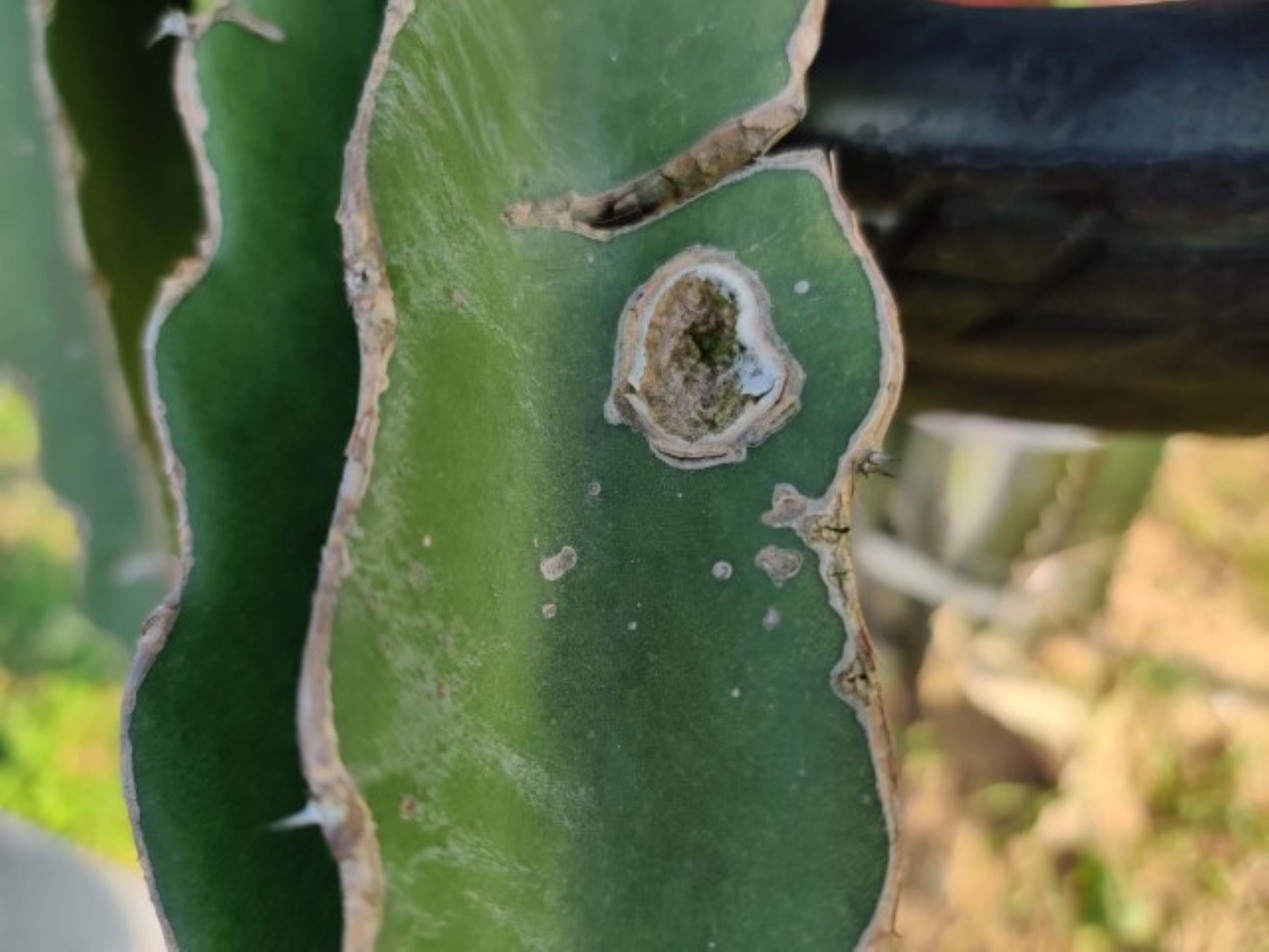stemcanker: (603, 239, 807, 476)
